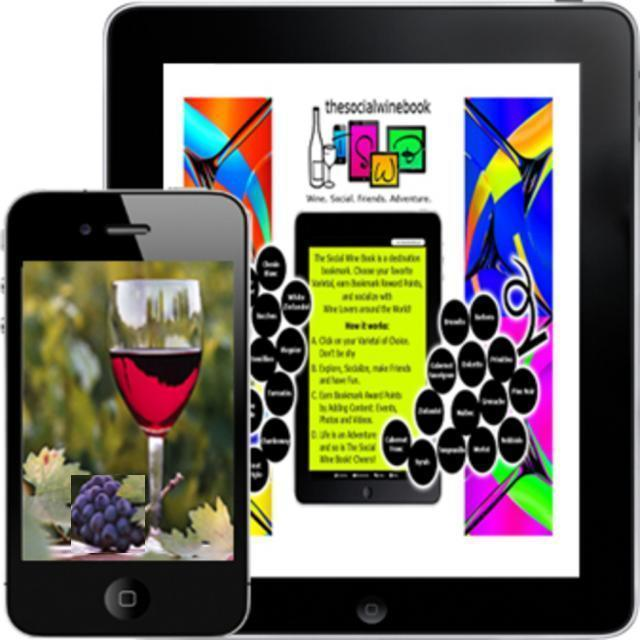Grape: (71, 476, 145, 554)
